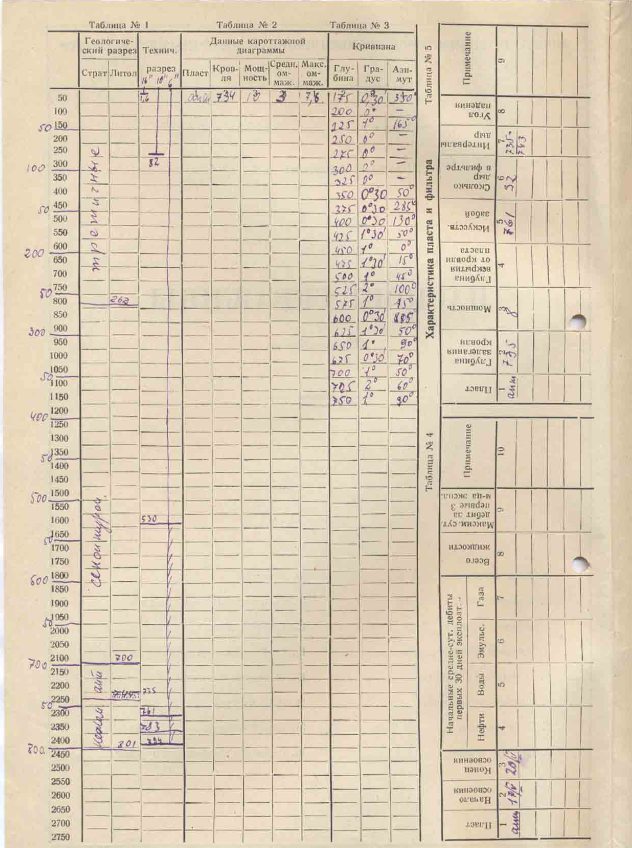Bordered: (326, 28, 426, 421)
